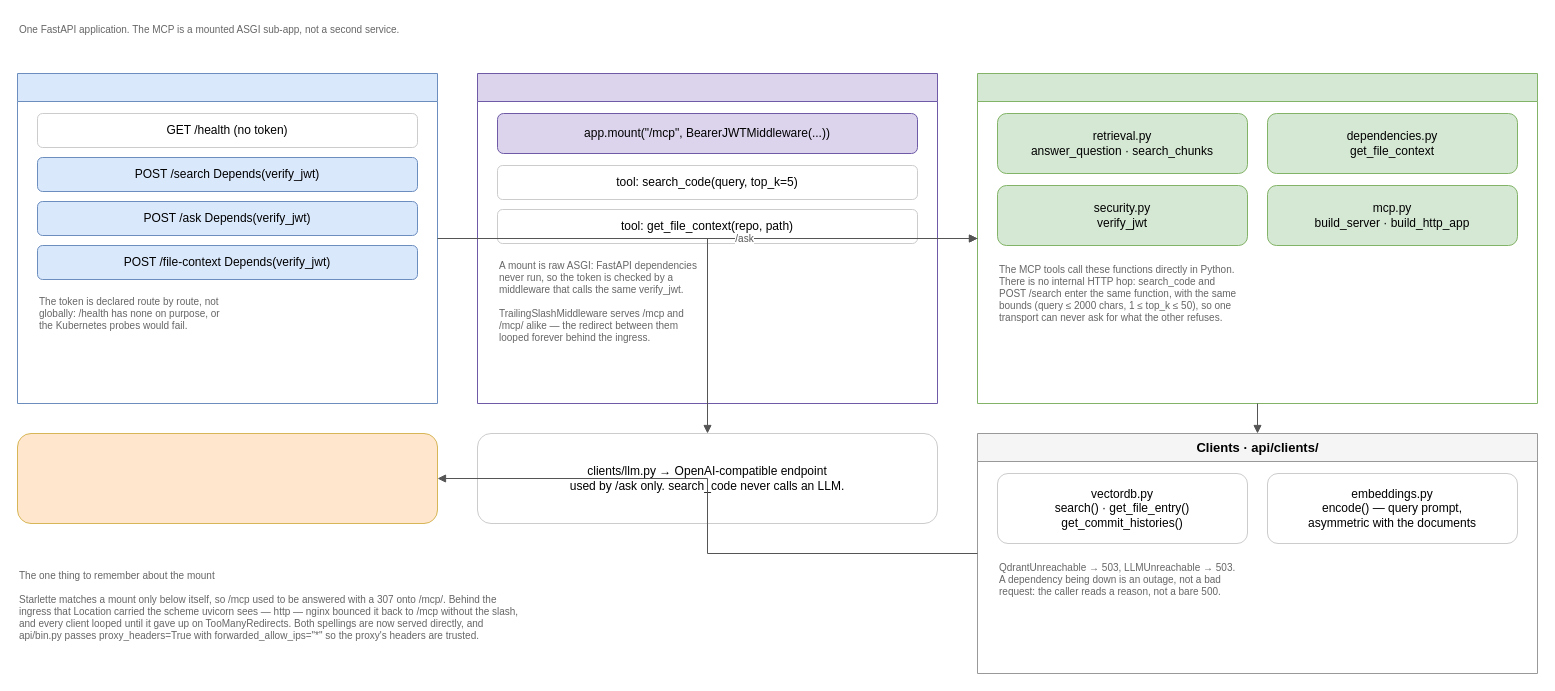
This 1555x691 diagram has some shape labels left out. Each missing label, with the box of its shape:
HTTP routes · api/routes.py: (16, 72, 438, 404)
MCP · api/services/mcp.py: (476, 72, 938, 404)
Qdrant read-only from this service: (16, 432, 438, 524)
Services · api/services/: (976, 72, 1538, 404)
